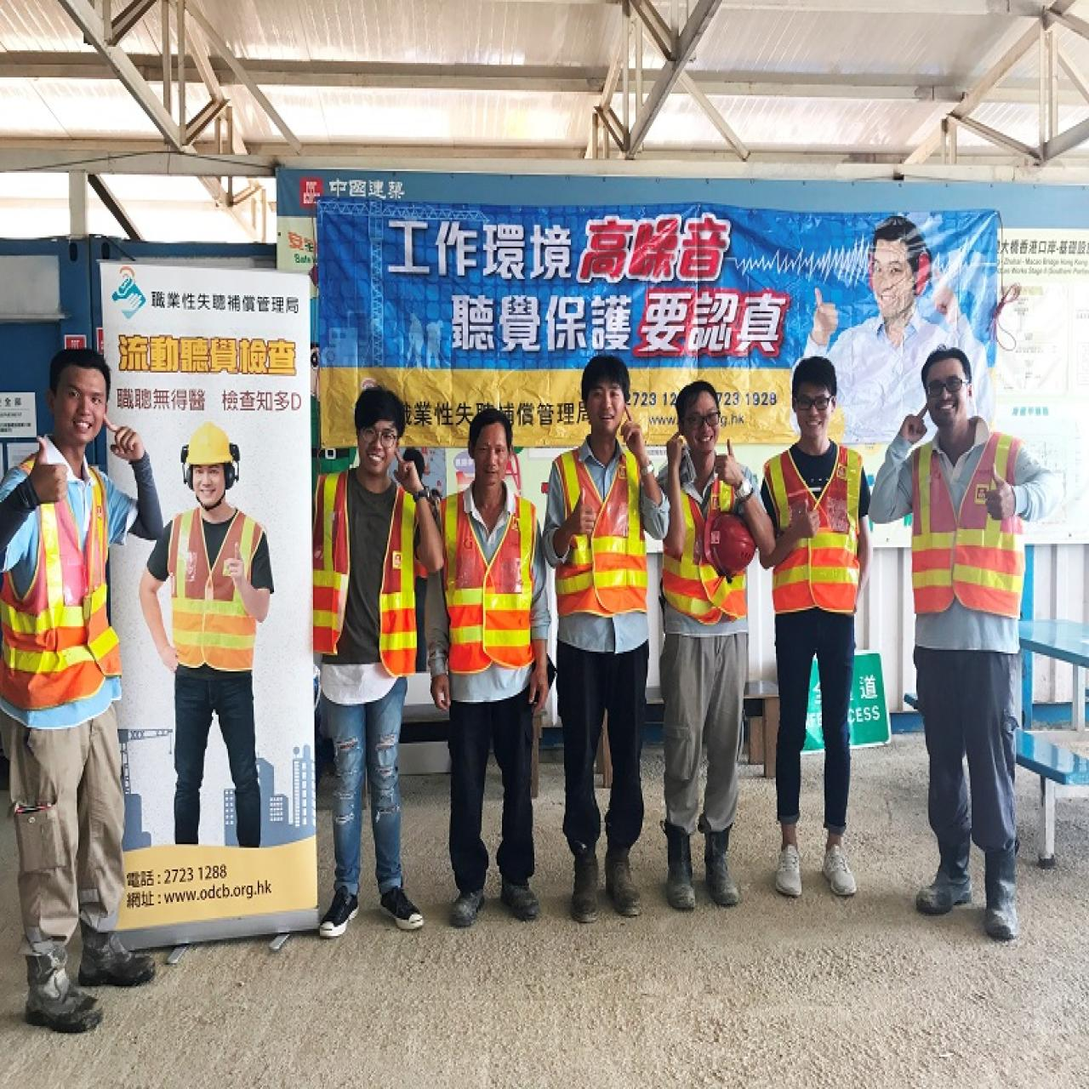Person: (864, 332, 1061, 952), (2, 345, 170, 1022), (302, 377, 447, 924), (536, 349, 673, 904), (421, 395, 561, 928), (750, 344, 873, 908), (647, 376, 768, 905), (140, 419, 276, 865)
Safety_Vest: (1, 452, 132, 730), (895, 424, 1046, 646), (310, 468, 424, 672), (546, 444, 654, 647), (150, 503, 271, 678), (437, 490, 539, 688), (755, 435, 864, 620), (656, 452, 752, 637)
